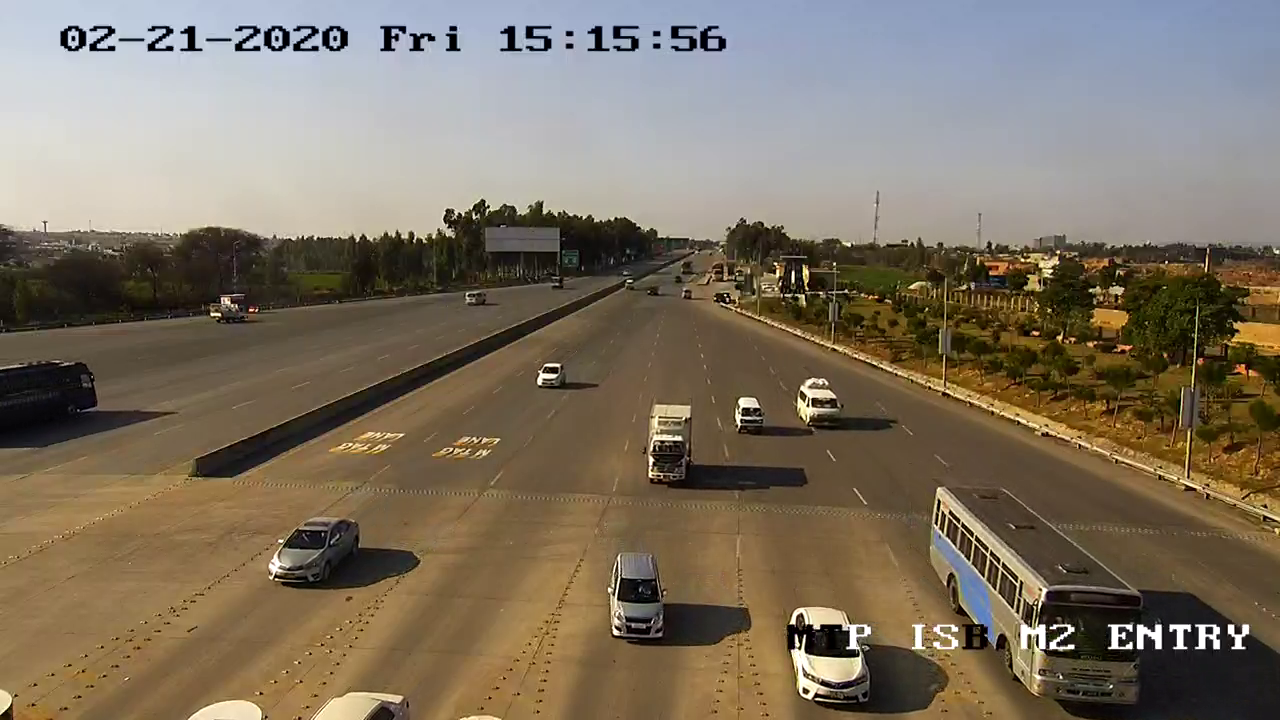f1: (786, 599, 874, 713), (265, 510, 367, 592), (603, 545, 677, 647), (729, 392, 771, 439)
f2: (793, 373, 851, 435)
f4: (923, 475, 1153, 716)
f5: (637, 397, 701, 492)
